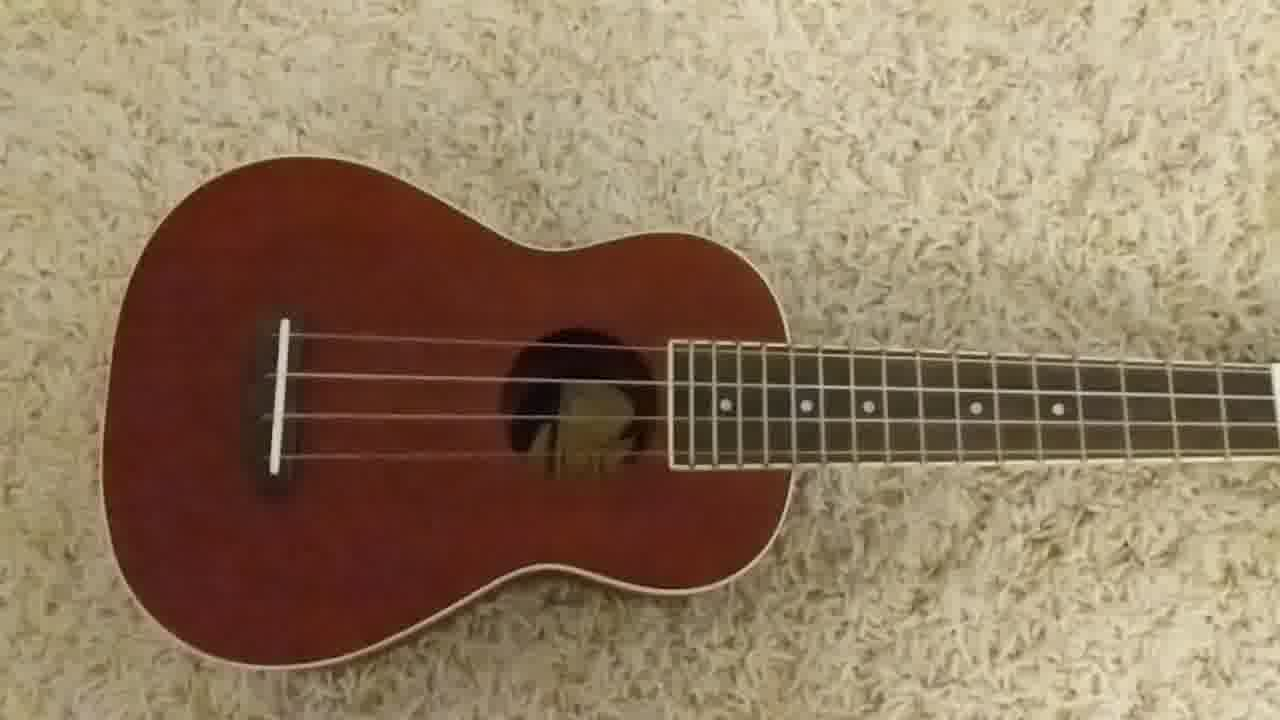Body: (93, 138, 804, 684)
Bridge: (249, 312, 312, 487)
